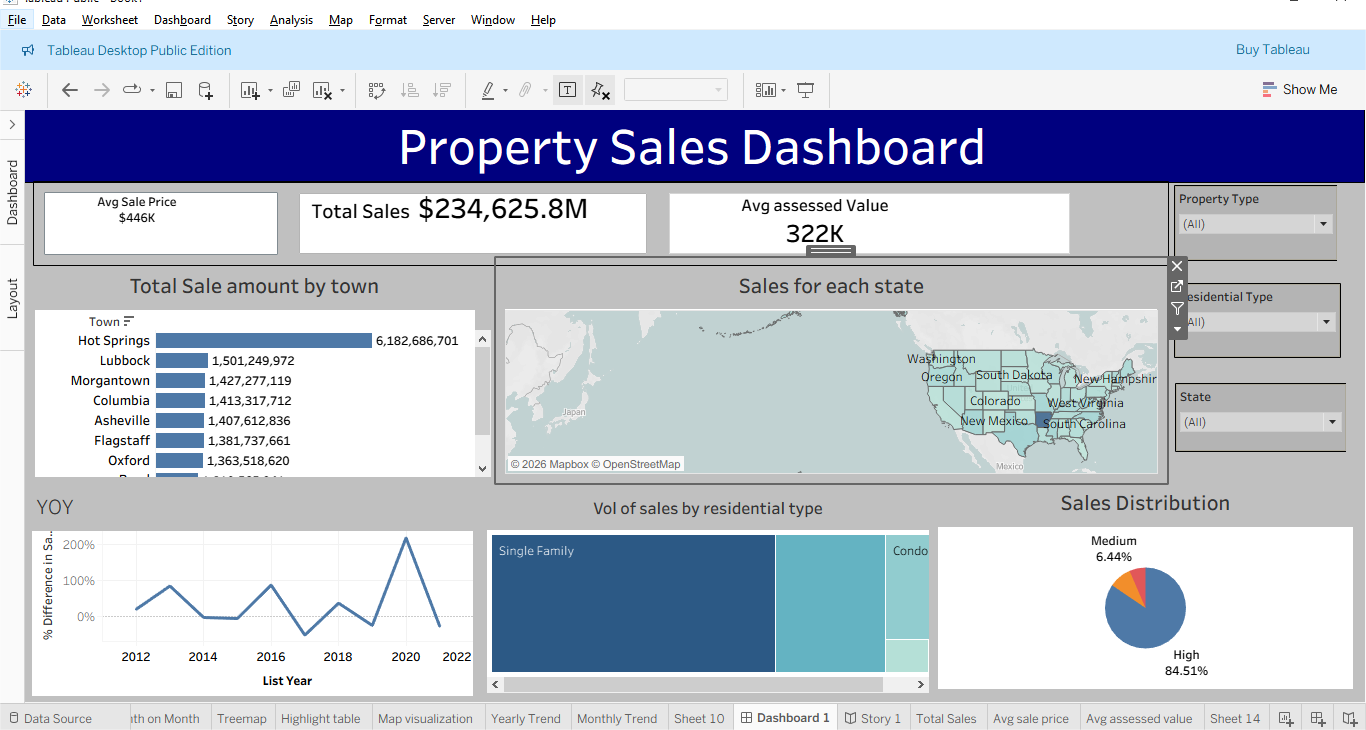

What the dashboard file says about the page in this screenshot:
{"tool":"tableau","page":{"name":"Dashboard 1","canvas":[1000,1000],"units":"permille","ordinal":0},"visuals":[{"type":"worksheet","title":"Avg sale price","mark":"Automatic","box":[6.8,121.6,189.6,140.2]},{"type":"worksheet","title":"Total Sales","mark":"Automatic","box":[196.4,121.6,276.1,140.2]},{"type":"worksheet","title":"Avg assessed value","mark":"Automatic","box":[472.5,121.6,315.7,140.2]},{"type":"filter","title":"Treemap","param":"[federated.043x6c00ow12ys15ne5420z8x6hq].[none:Property Type:nk]","box":[857.1,126.7,122.1,128.4]},{"type":"worksheet","title":"Map visualization","mark":"Multipolygon","box":[351.5,250,500.4,380.1]},{"type":"worksheet","title":"bar Chart","mark":"Automatic","rows":["Town"],"cols":["Sale Amount"],"box":[3.5,256.8,348.1,371.6]},{"type":"filter","title":"Treemap","param":"[federated.043x6c00ow12ys15ne5420z8x6hq].[none:Residential Type:nk]","box":[857.1,292.2,124.7,126.7]},{"type":"filter","title":"Treemap","param":"[federated.043x6c00ow12ys15ne5420z8x6hq].[none:State:nk]","box":[858,461.2,128.1,116.5]},{"type":"worksheet","title":"Sales Distribution","mark":"Pie","box":[677.6,623.3,317.2,363.2]},{"type":"worksheet","title":"YOY","mark":"Automatic","rows":["Sale Amount"],"cols":["List Year"],"box":[0.8,628.4,338.1,371.6]},{"type":"worksheet","title":"Treemap","mark":"Automatic","box":[338.8,633.5,341.8,364.9]}]}

Visuals, with their boxes on the dashboard's canvas, which has no fixed pixel size, in thousandths of its width and height (x1, y1, x2, y2). These are canvas units, not pixel positions in the 1366x730 screenshot, which may show the page scaled, cropped or inside an application window:
"Avg sale price" worksheet: box(7, 122, 196, 262)
"Total Sales" worksheet: box(196, 122, 472, 262)
"Avg assessed value" worksheet: box(472, 122, 788, 262)
"Treemap" filter: box(857, 127, 979, 255)
"Map visualization" worksheet (Multipolygon marks): box(352, 250, 852, 630)
"bar Chart" worksheet: box(4, 257, 352, 628)
"Treemap" filter: box(857, 292, 982, 419)
"Treemap" filter: box(858, 461, 986, 578)
"Sales Distribution" worksheet (Pie marks): box(678, 623, 995, 986)
"YOY" worksheet: box(1, 628, 339, 1000)
"Treemap" worksheet: box(339, 634, 681, 998)
